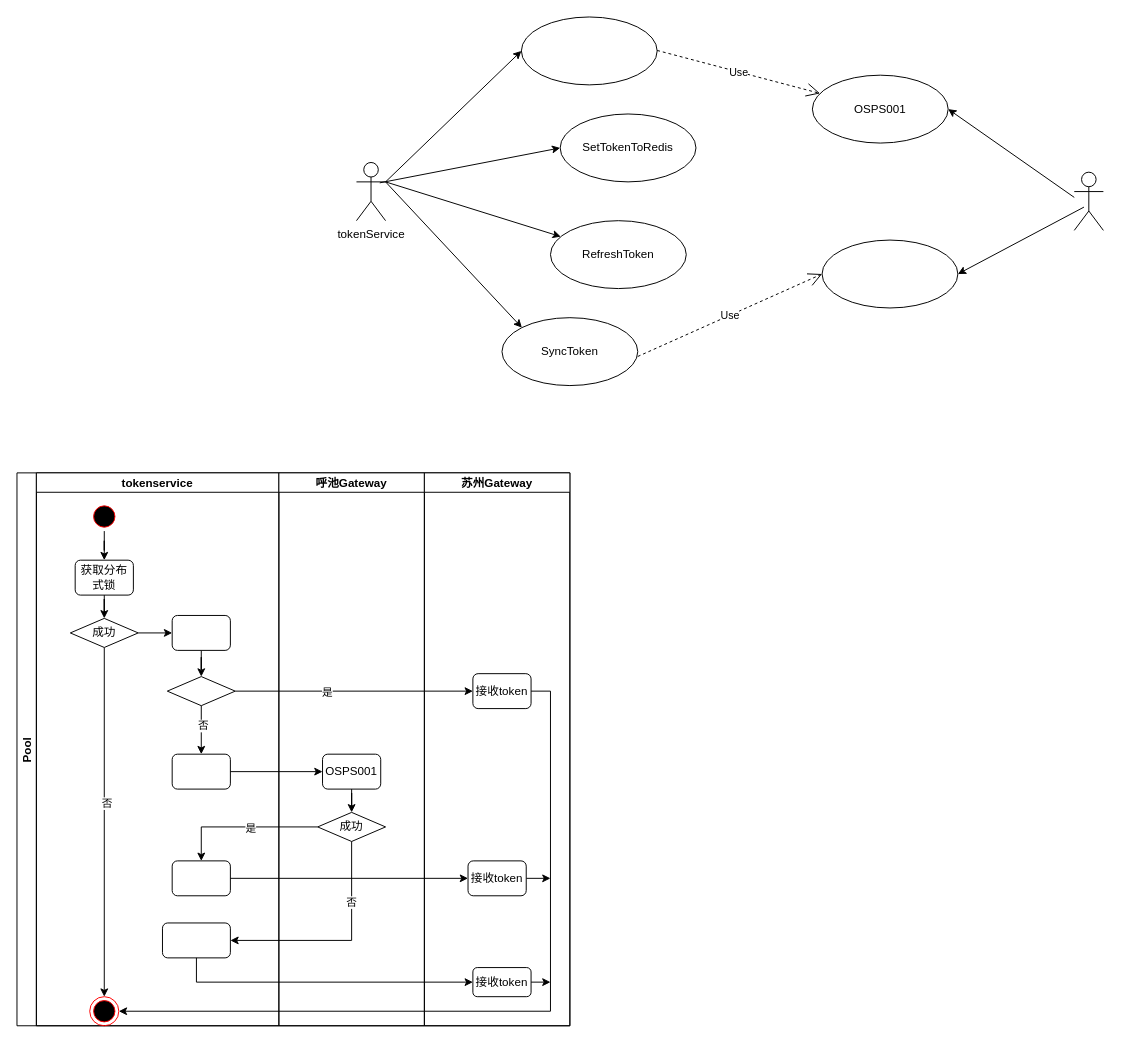
This 1146x1043 diagram has some shape labels left out. The centre of each missing label's shape, as x and y in pixels:
"GetToken" belongs at (588,50).
"RPC接口接收tongken" belongs at (889,273).
"ttl>60m" belongs at (200,691).
"ummp-gateway" belongs at (1088,200).
"同步当前redis中token" belongs at (196,940).
"同步新token" belongs at (200,878).
"校验token ttl" belongs at (200,632).
"获取能开token" belongs at (200,771).
